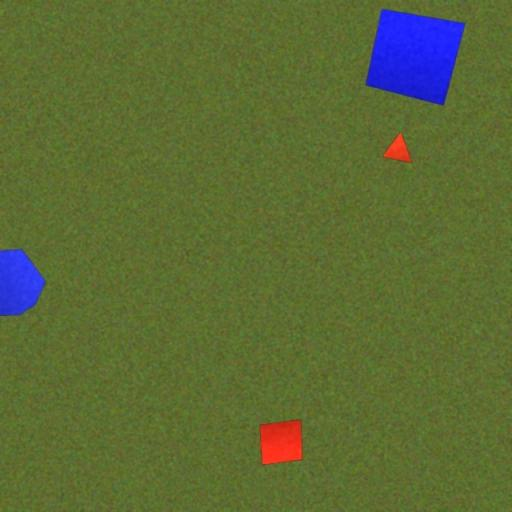BLUE_SQUARE: (365, 8, 466, 106)
RED_SQUARE: (259, 419, 303, 466)
